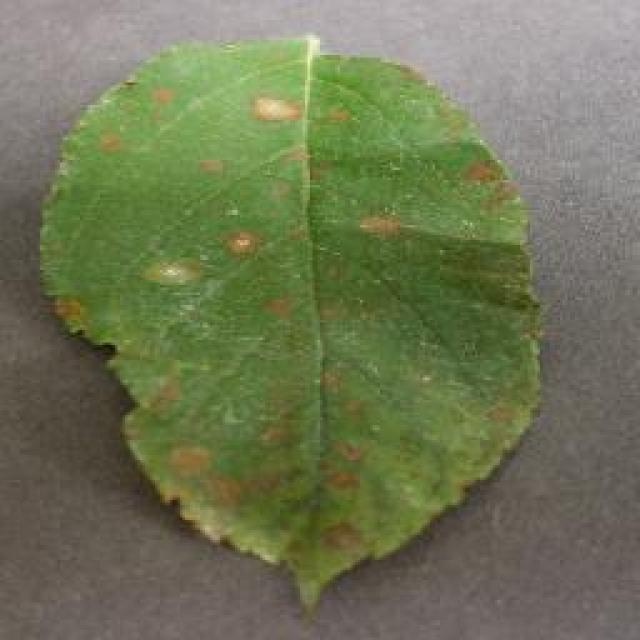apple healthy: (35, 30, 545, 618)
